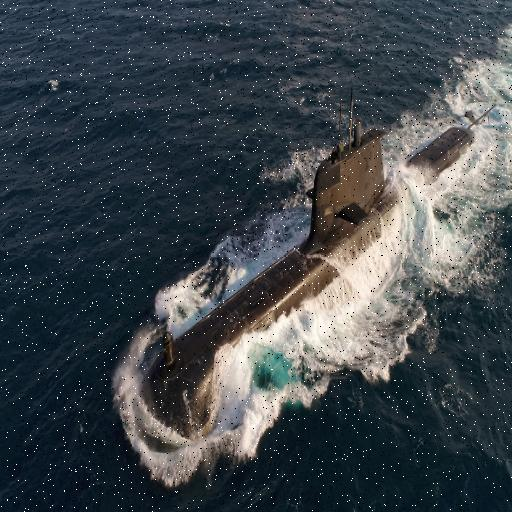submarine: (165, 87, 476, 453)
